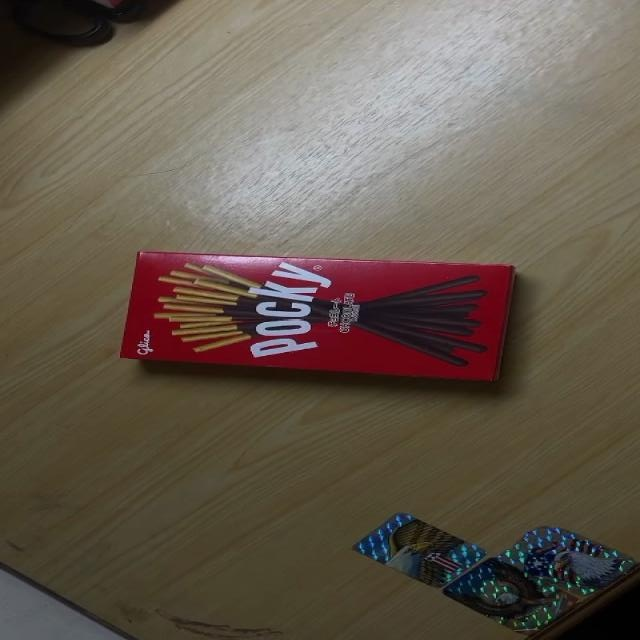Pocky: (114, 249, 516, 385)
